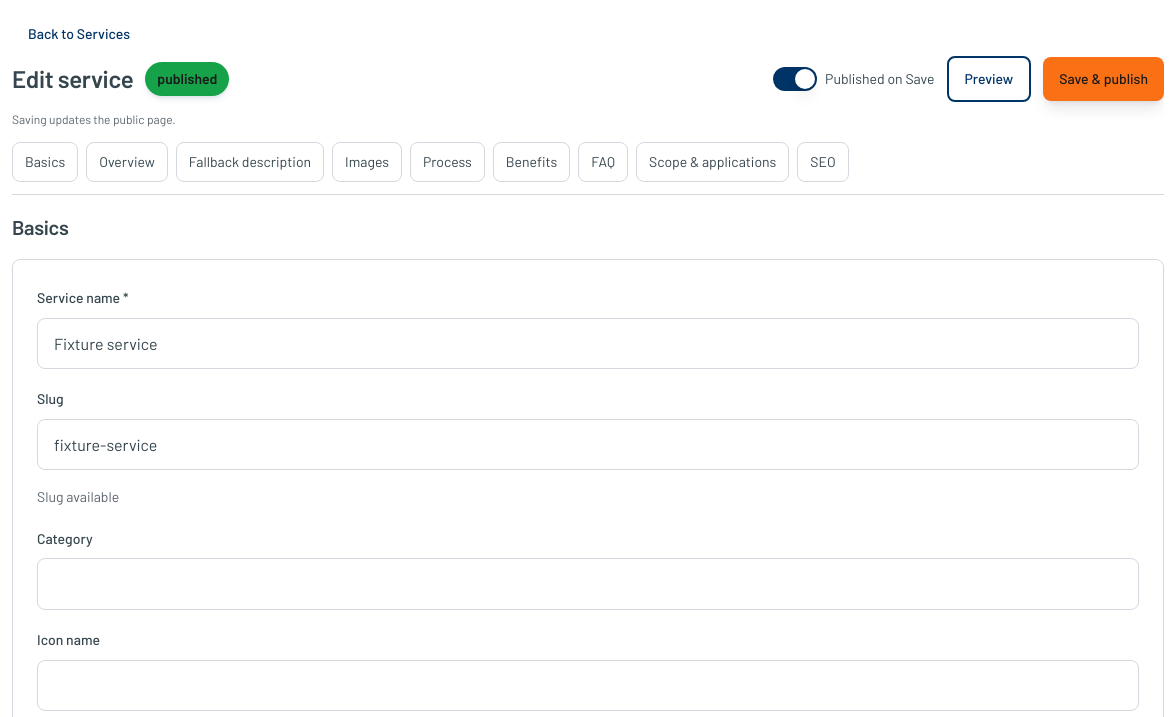
service featured-image editing › keeps unsaved-change protection and stays in the editor after a failed save
Earlier steps of the test are not shown.
Click the button "Save & publish" at point(1104, 79), box [1043,57,1164,101]
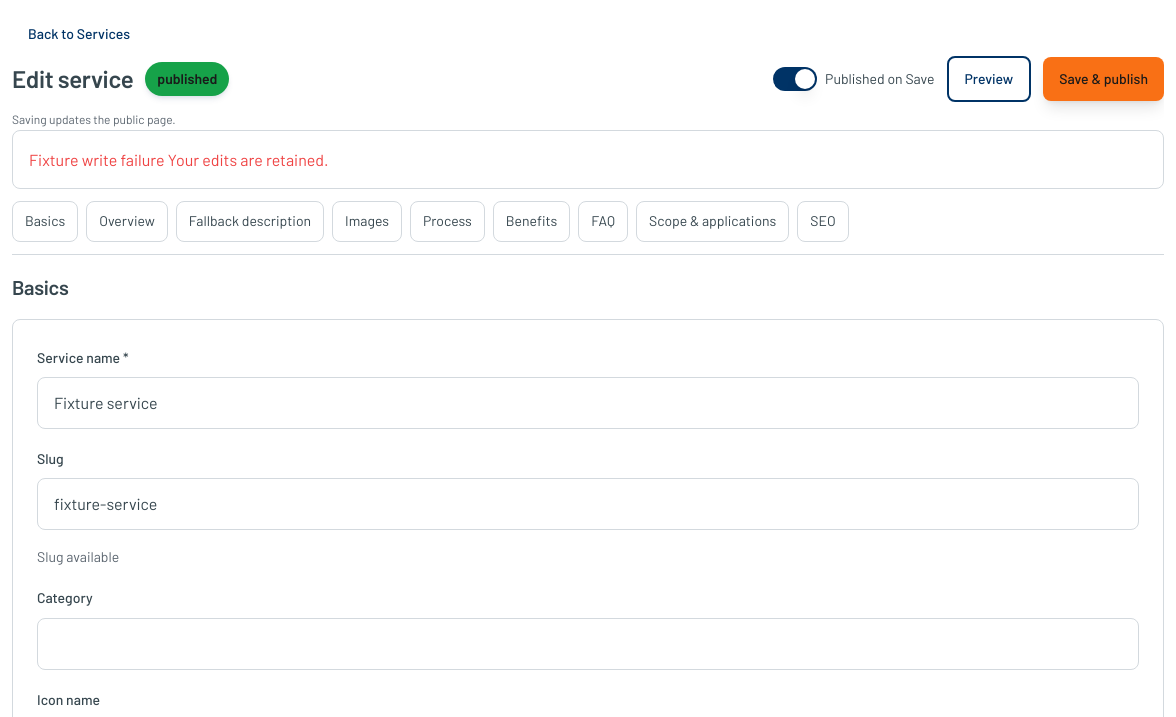
Now the message "Fixture write failure Your edits are retained." is shown, box [12,130,1164,189]
